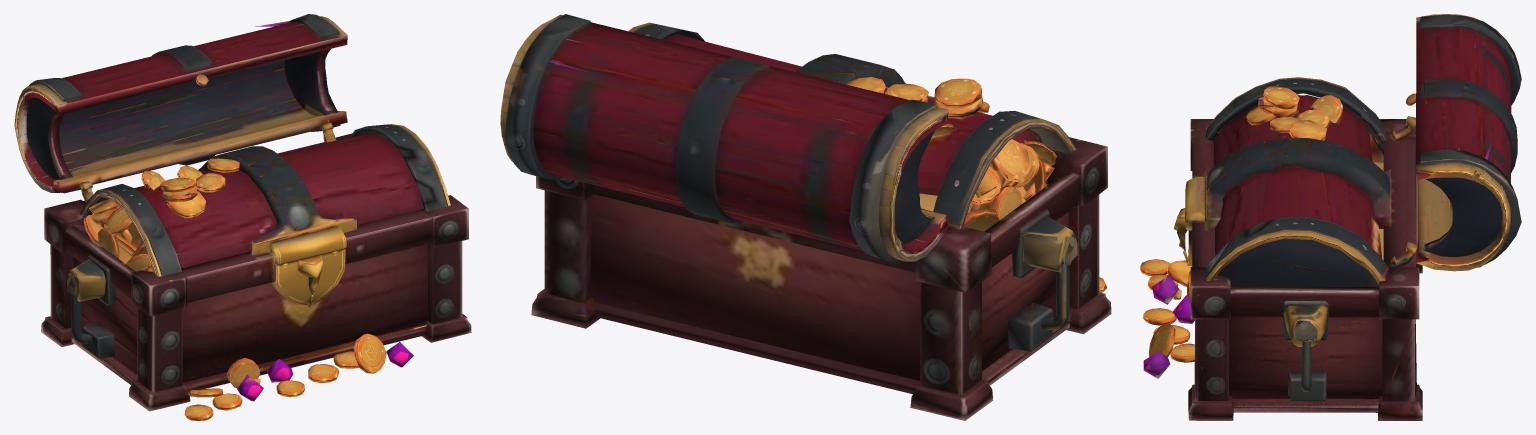
Rendered from treasureChest.glb.
3 views of the same model, side by side, from view 1: azimuth 30°, elevation 25°; view 2: azimuth 150°, elevation 25°; view 3: azimuth 270°, elevation 25° (orthographic). The views are drawn at different scales.
Bounding box in the file's own units: 0.959 × 0.5903 × 0.8037.
Materials: 1 (1 with a texture image).
